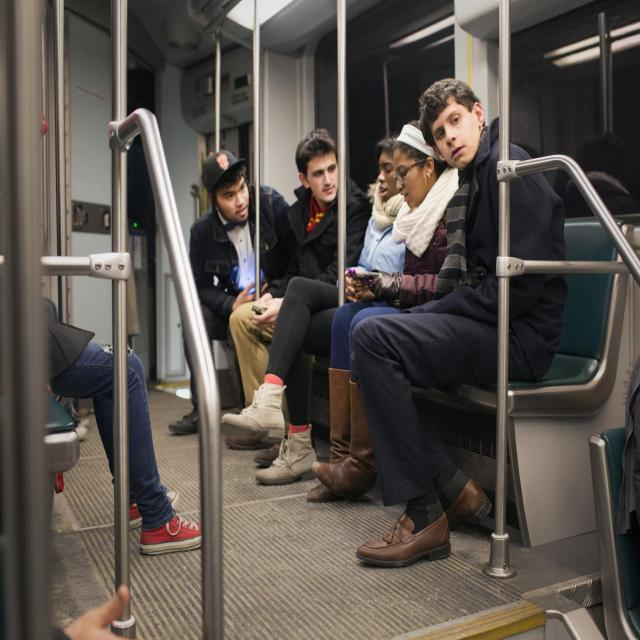body: (350, 74, 570, 570), (220, 136, 408, 484), (306, 116, 460, 504), (224, 128, 373, 468), (36, 293, 204, 557), (172, 149, 292, 434), (603, 346, 639, 640), (521, 135, 639, 215), (44, 585, 144, 640), (43, 367, 92, 443), (125, 197, 142, 348)
